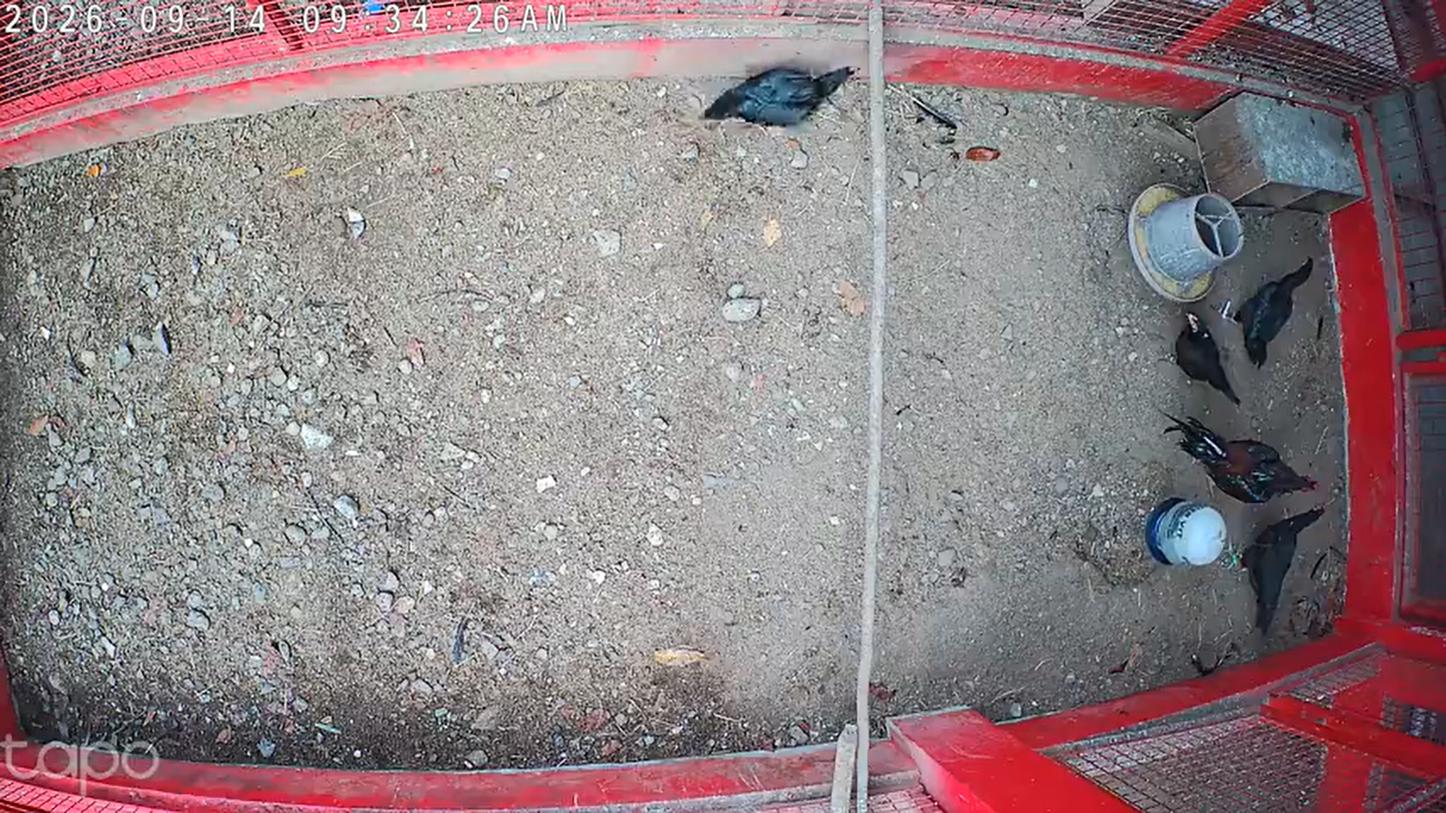Chicken: (1222, 502, 1330, 641), (695, 59, 860, 131), (1218, 252, 1316, 367), (1158, 310, 1242, 412)
Rooster: (1153, 403, 1326, 506)
